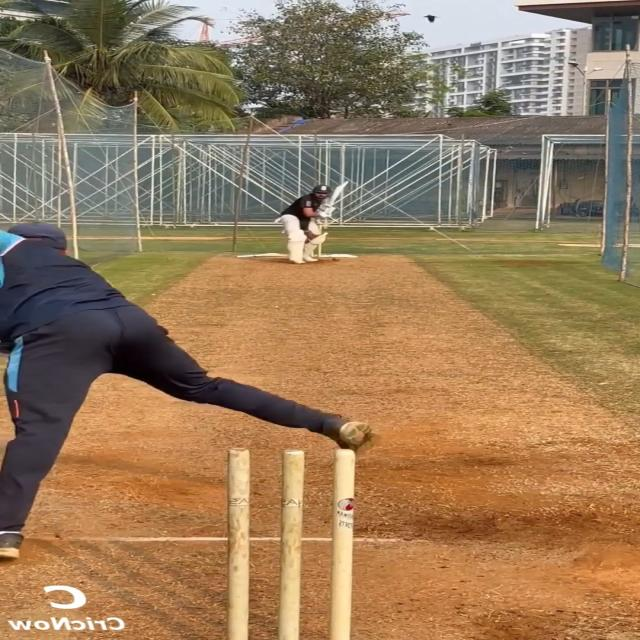ball: (332, 257, 341, 262)
stump: (226, 447, 357, 640)
